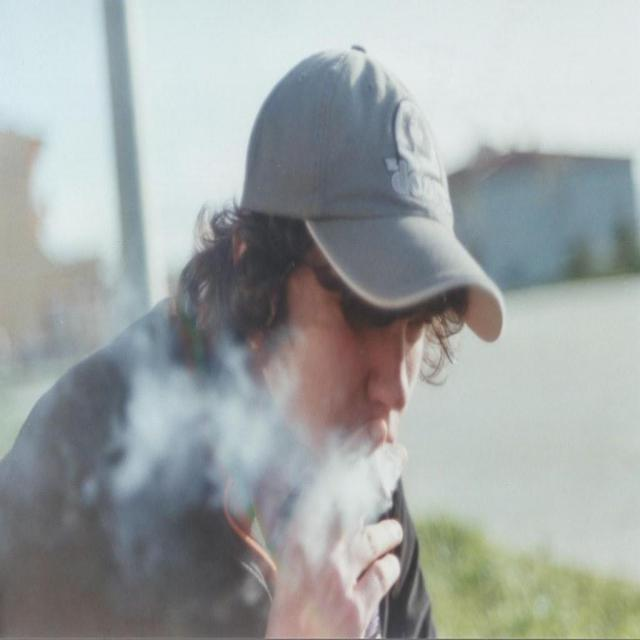Дым: (76, 322, 402, 540)
Сигарета: (372, 446, 392, 504)
Тело: (1, 47, 502, 640)
